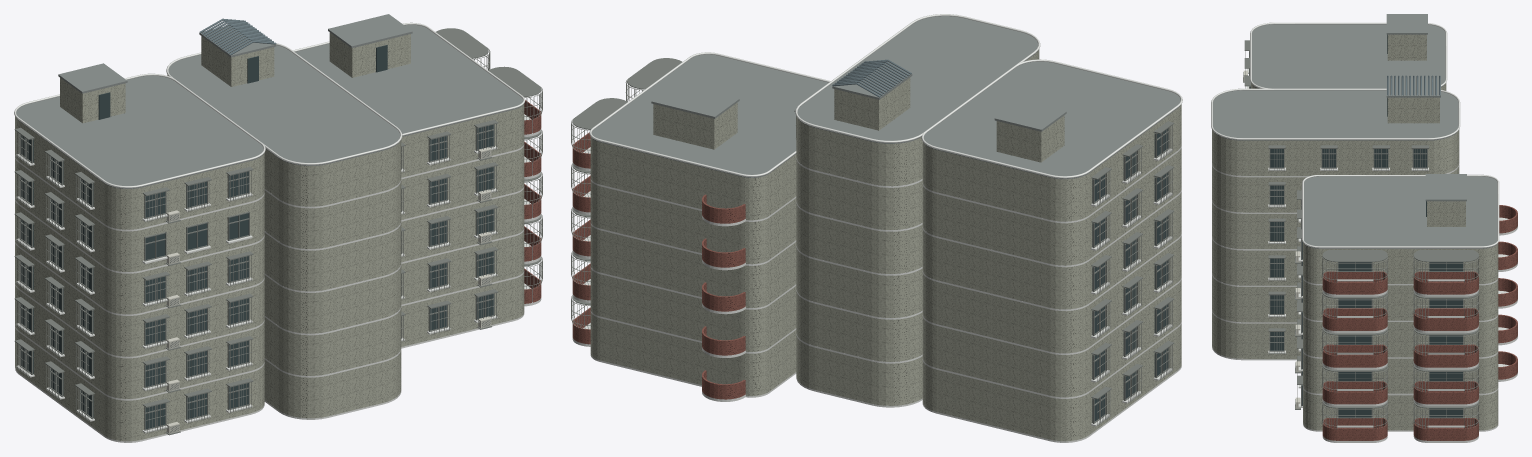
The model's file is sushe.glb.
The picture shows the model from 3 angles, left to right: view 1: azimuth 30°, elevation 25°; view 2: azimuth 150°, elevation 25°; view 3: azimuth 270°, elevation 25°; orthographic projection. The views are drawn at different scales.
Visible parts, largest first — view 1: F06_LEFT_Roof, F06_CENTER_Roof, F05_RIGHT_Roof, F05_LEFT_Envelope, F01_LEFT_Envelope, F06_LEFT_Envelope, F04_LEFT_Envelope, F02_LEFT_Envelope, F03_LEFT_Envelope, F04_CENTER_Envelope, F01_CENTER_Envelope, F02_CENTER_Envelope (+25 smaller); view 2: F06_LEFT_Roof, F05_RIGHT_Roof, F06_CENTER_Roof, F05_LEFT_Envelope, F04_LEFT_Envelope, F01_LEFT_Envelope, F02_LEFT_Envelope, F03_LEFT_Envelope, F06_LEFT_Envelope, F05_RIGHT_Envelope, F02_RIGHT_Envelope, F01_RIGHT_Envelope (+25 smaller); view 3: F05_RIGHT_Roof, F06_LEFT_Roof, F06_CENTER_Roof, F06_CENTER_Envelope, F05_RIGHT_Envelope, F04_RIGHT_Envelope, F02_RIGHT_Envelope, F01_RIGHT_Envelope, F03_RIGHT_Envelope, F05_CENTER_Envelope, F03_CENTER_Envelope, F01_CENTER_Envelope (+39 smaller).
Part boxes in pixels (left/top/right/bottom): F06_LEFT_Roof: left=16, top=75, right=263, bottom=188; F06_CENTER_Roof: left=168, top=45, right=399, bottom=165; F05_RIGHT_Roof: left=295, top=24, right=523, bottom=136; F05_LEFT_Envelope: left=15, top=157, right=264, bottom=271; F01_LEFT_Envelope: left=15, top=326, right=264, bottom=441; F06_LEFT_Envelope: left=15, top=116, right=264, bottom=229; F04_LEFT_Envelope: left=15, top=199, right=264, bottom=314; F02_LEFT_Envelope: left=15, top=283, right=264, bottom=398; F03_LEFT_Envelope: left=15, top=241, right=264, bottom=356; F04_CENTER_Envelope: left=264, top=223, right=401, bottom=291; F01_CENTER_Envelope: left=264, top=350, right=401, bottom=418; F02_CENTER_Envelope: left=264, top=308, right=401, bottom=375; F06_LEFT_Roof: left=923, top=61, right=1180, bottom=179; F05_RIGHT_Roof: left=591, top=54, right=828, bottom=177; F06_CENTER_Roof: left=797, top=16, right=1037, bottom=143; F05_LEFT_Envelope: left=922, top=148, right=1181, bottom=265; F04_LEFT_Envelope: left=922, top=192, right=1181, bottom=309; F01_LEFT_Envelope: left=922, top=324, right=1181, bottom=441; F02_LEFT_Envelope: left=922, top=280, right=1181, bottom=397; F03_LEFT_Envelope: left=922, top=236, right=1181, bottom=353; F06_LEFT_Envelope: left=922, top=104, right=1181, bottom=221; F05_RIGHT_Envelope: left=590, top=137, right=796, bottom=220; F02_RIGHT_Envelope: left=590, top=268, right=796, bottom=351; F01_RIGHT_Envelope: left=590, top=312, right=796, bottom=395; F05_RIGHT_Roof: left=1303, top=176, right=1497, bottom=248; F06_LEFT_Roof: left=1252, top=24, right=1445, bottom=88; F06_CENTER_Roof: left=1213, top=90, right=1458, bottom=140; F06_CENTER_Envelope: left=1212, top=129, right=1459, bottom=175; F05_RIGHT_Envelope: left=1303, top=243, right=1498, bottom=283; F04_RIGHT_Envelope: left=1303, top=278, right=1498, bottom=320; F02_RIGHT_Envelope: left=1303, top=352, right=1498, bottom=393; F01_RIGHT_Envelope: left=1303, top=388, right=1498, bottom=430; F03_RIGHT_Envelope: left=1303, top=315, right=1498, bottom=357; F05_CENTER_Envelope: left=1212, top=165, right=1459, bottom=212; F03_CENTER_Envelope: left=1212, top=238, right=1300, bottom=285; F01_CENTER_Envelope: left=1212, top=311, right=1300, bottom=358.
Size of the model in its own units: 36.7 by 21.71 by 23.58.
10 materials, 2 textured.
